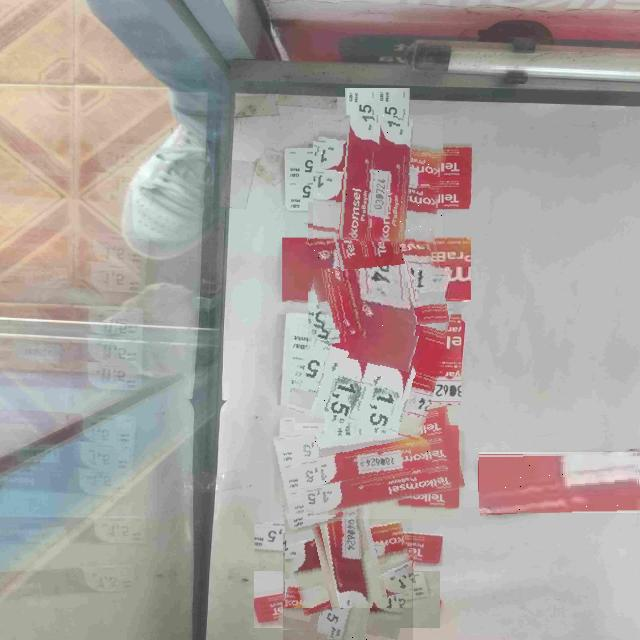Telkomsel: (294, 284, 445, 435), (270, 412, 462, 519), (308, 202, 444, 338), (313, 115, 443, 245), (285, 481, 412, 608), (283, 533, 413, 640), (479, 452, 640, 513)
